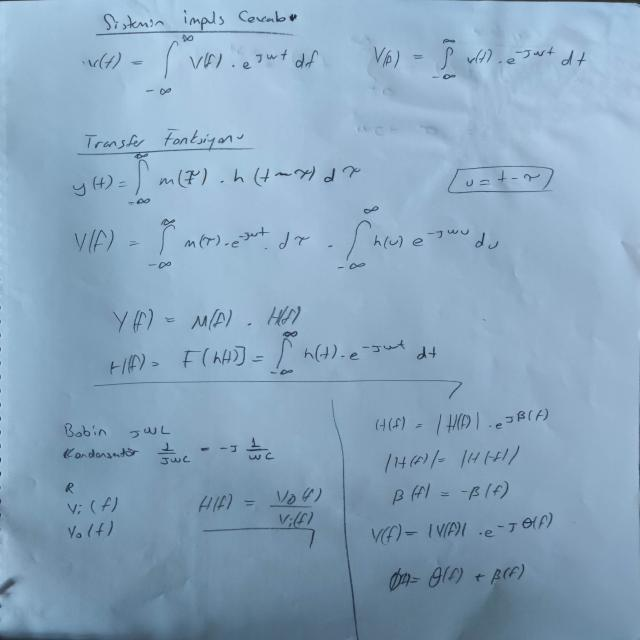math: (63, 203, 507, 275), (104, 331, 455, 381), (66, 150, 368, 208), (84, 36, 325, 100), (363, 35, 593, 86), (179, 480, 333, 530), (368, 510, 558, 550), (135, 424, 290, 471), (100, 301, 306, 331), (366, 407, 554, 436), (370, 560, 539, 592), (372, 441, 530, 473), (375, 481, 519, 508), (448, 165, 551, 192)
text: (94, 5, 300, 35), (81, 124, 250, 150), (59, 416, 138, 464)
